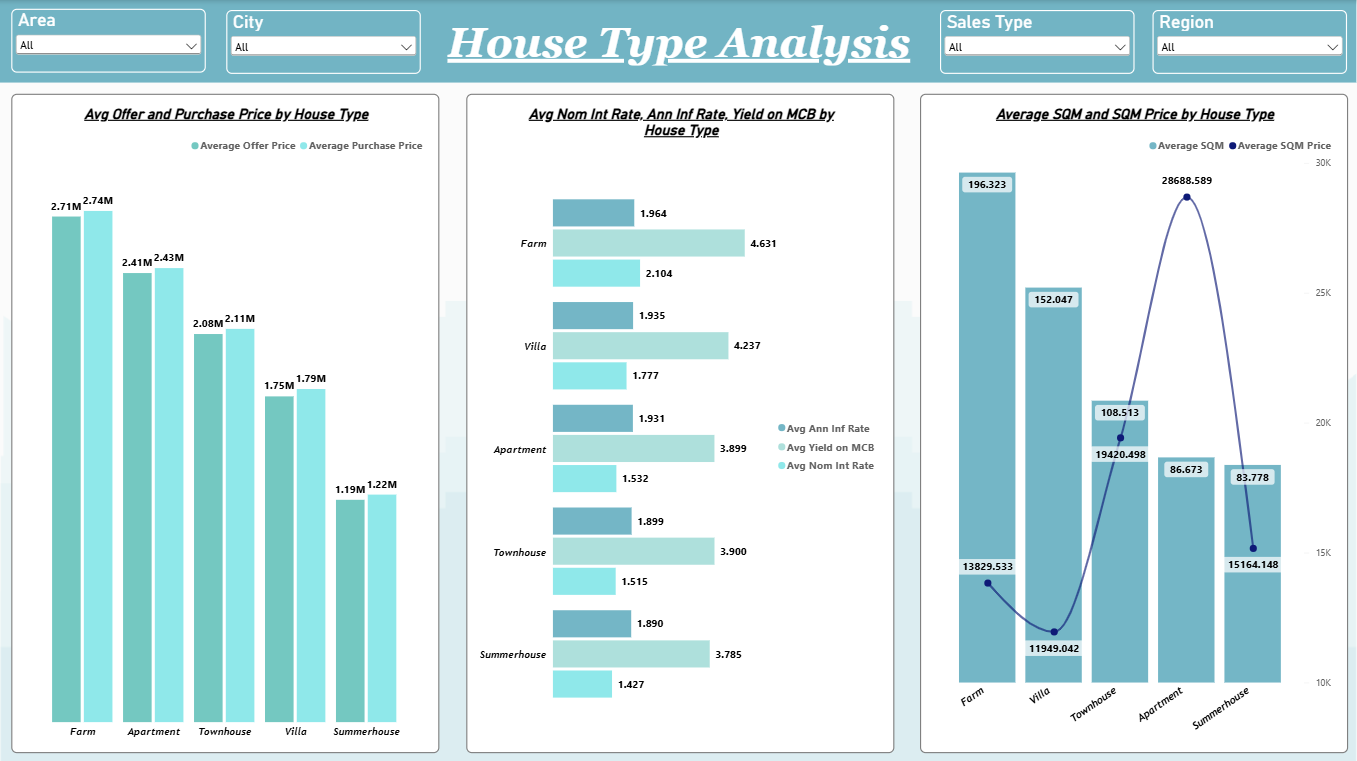

Layout of this report page (visuals, bound fields, positions):
{"tool":"powerbi","page":{"name":"House Type Analysis","canvas":[1920,1080],"ordinal":2},"visuals":[{"type":"shape","box":[0,0,1920.4,116.9],"z":0},{"type":"clusteredColumnChart","title":"Avg Offer and Purchase Price by House Type","fields":{"Category":["HousingData.house_type"],"Y":["Avg(HousingData.offer_price)","Avg(HousingData.purchase_price)"]},"box":[15.7,132.6,605.2,933.1],"z":1},{"type":"clusteredBarChart","title":"Avg Nom Int Rate, Ann Inf Rate, Yield on MCB by House Type","fields":{"Category":["HousingData.house_type"],"Y":["Avg(HousingData.dk_ann_infl_rate%)","Avg(HousingData.yield_on_mortgage_credit_bonds%)","Avg(HousingData.nom_interest_rate%)"]},"box":[660,132.6,605.2,933.1],"z":2},{"type":"lineStackedColumnComboChart","title":"Average SQM and SQM Price by House Type","fields":{"Category":["HousingData.house_type"],"Y":["Avg(HousingData.sqm)"],"Y2":["Avg(HousingData.sqm_price)"]},"box":[1301.2,132.6,605.2,933.1],"z":3},{"type":"slicer","fields":{"Values":["HousingData.area"]},"box":[15.7,12.2,275.6,90.7],"z":4},{"type":"slicer","fields":{"Values":["HousingData.city"]},"box":[319.2,14,275.6,90.7],"z":6},{"type":"slicer","fields":{"Values":["HousingData.sales_type"]},"box":[1329.1,14,275.6,90.7],"z":7},{"type":"slicer","fields":{"Values":["HousingData.region"]},"box":[1630.8,14,275.6,90.7],"z":8}]}

Visuals, with their boxes in screenshot pixels (x1, y1, x2, y2), scaled from the page's 1920x1080 canvas onto the 1357x761 screenshot:
shape: (x1=0, y1=0, x2=1356, y2=82)
"Avg Offer and Purchase Price by House Type" clusteredColumnChart: (x1=11, y1=93, x2=439, y2=751)
"Avg Nom Int Rate, Ann Inf Rate, Yield on MCB by House Type" clusteredBarChart: (x1=466, y1=93, x2=894, y2=751)
"Average SQM and SQM Price by House Type" lineStackedColumnComboChart: (x1=920, y1=93, x2=1347, y2=751)
slicer - HousingData.area: (x1=11, y1=9, x2=206, y2=73)
slicer - HousingData.city: (x1=226, y1=10, x2=420, y2=74)
slicer - HousingData.sales_type: (x1=939, y1=10, x2=1134, y2=74)
slicer - HousingData.region: (x1=1153, y1=10, x2=1347, y2=74)
